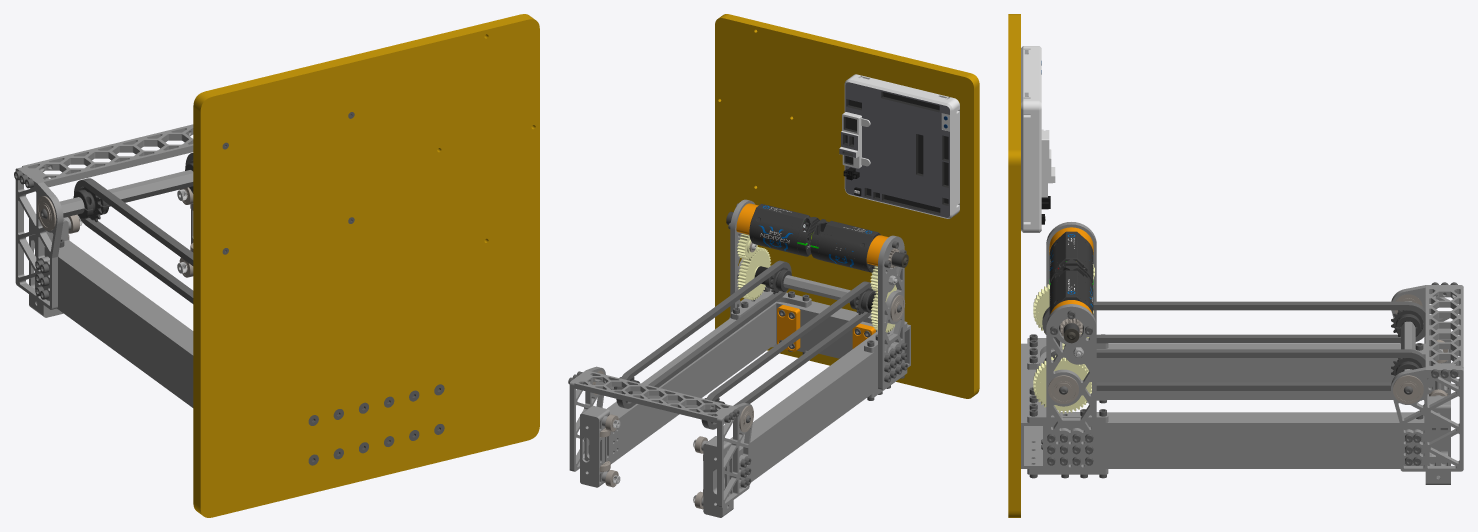
3 views of the same model, side by side, from view 1: azimuth 30°, elevation 25°; view 2: azimuth 150°, elevation 25°; view 3: azimuth 270°, elevation 25° (orthographic). The views are drawn at different scales.
Parts seen in each view (by area): view 1: G26-EL-5001, Side Bar-G26-EL-4002, G26-EL-4008, G26-EL-4005, 127 links #25 chain, Hex Bar-G26-EL-4012, D25-EL-4034 -- Main Bearing Block; view 2: G26-EL-5001, Side Bar-G26-EL-4002 (×2), id350, 127 links #25 chain (×2), Kraken X44 (×2), G26-EL-4005 (×2), D25-EL-4034 -- Main Bearing Block (×2), G26-EL-4008, G26-EL-4015, Bottom Bar-G26-EL-4001, G26-EL-4003, 46t Aluminum Spur Gear (20 DP, 1/2" Hex Bore) (WCP-0714) (+3 smaller); view 3: Side Bar-G26-EL-4002 (×2), 127 links #25 chain (×2), G26-EL-5001, G26-EL-4003, id350, G26-EL-4005 (×2), Kraken X44 (×2), G26-EL-4008, Bottom Bar-G26-EL-4001, D25-EL-4034 -- Main Bearing Block, 46t Aluminum Spur Gear (20 DP, 1/2" Hex Bore) (WCP-0714), Hex Bearing, 0.500 ID x 1.125 OD x 0.313 WD, Flanged (×2) (+2 smaller).
Part boxes in pixels (bbox=[...]): G26-EL-5001: bbox=[193, 14, 539, 517]; Side Bar-G26-EL-4002: bbox=[44, 240, 193, 407]; G26-EL-4008: bbox=[22, 124, 193, 187]; G26-EL-4005: bbox=[15, 167, 63, 309]; 127 links #25 chain: bbox=[74, 178, 193, 303]; Hex Bar-G26-EL-4012: bbox=[60, 170, 193, 217]; D25-EL-4034 -- Main Bearing Block: bbox=[29, 214, 68, 317]; G26-EL-5001: bbox=[715, 14, 979, 398]; Side Bar-G26-EL-4002 (×2): bbox=[607, 303, 893, 482]; id350: bbox=[839, 74, 959, 218]; 127 links #25 chain (×2): bbox=[616, 260, 876, 429]; Kraken X44 (×2): bbox=[749, 203, 880, 272]; G26-EL-4005 (×2): bbox=[569, 366, 752, 507]; D25-EL-4034 -- Main Bearing Block (×2): bbox=[580, 405, 733, 517]; G26-EL-4008: bbox=[574, 371, 733, 422]; G26-EL-4015: bbox=[878, 235, 904, 390]; Bottom Bar-G26-EL-4001: bbox=[775, 301, 910, 367]; G26-EL-4003: bbox=[730, 199, 754, 317]; 46t Aluminum Spur Gear (20 DP, 1/2" Hex Bore) (WCP-0714): bbox=[737, 247, 771, 300]; Side Bar-G26-EL-4002 (×2): bbox=[1051, 343, 1425, 468]; 127 links #25 chain (×2): bbox=[1042, 301, 1428, 390]; G26-EL-5001: bbox=[1008, 14, 1020, 517]; G26-EL-4003: bbox=[1046, 304, 1096, 471]; id350: bbox=[1021, 46, 1055, 232]; G26-EL-4005 (×2): bbox=[1391, 285, 1463, 471]; Kraken X44 (×2): bbox=[1049, 231, 1093, 333]; G26-EL-4008: bbox=[1425, 287, 1463, 368]; Bottom Bar-G26-EL-4001: bbox=[1021, 343, 1046, 468]; D25-EL-4034 -- Main Bearing Block: bbox=[1425, 396, 1450, 484]; 46t Aluminum Spur Gear (20 DP, 1/2" Hex Bore) (WCP-0714): bbox=[1033, 355, 1091, 413]; Hex Bearing, 0.500 ID x 1.125 OD x 0.313 WD, Flanged (×2): bbox=[1048, 375, 1423, 403].
Bounding box in the file's own units: 0.3429 × 0.4064 × 0.4572.
